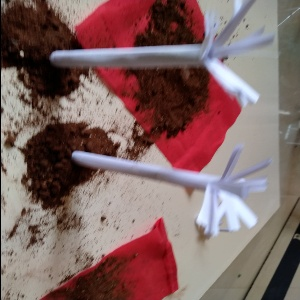weed: (47, 8, 269, 108), (56, 132, 265, 236)
